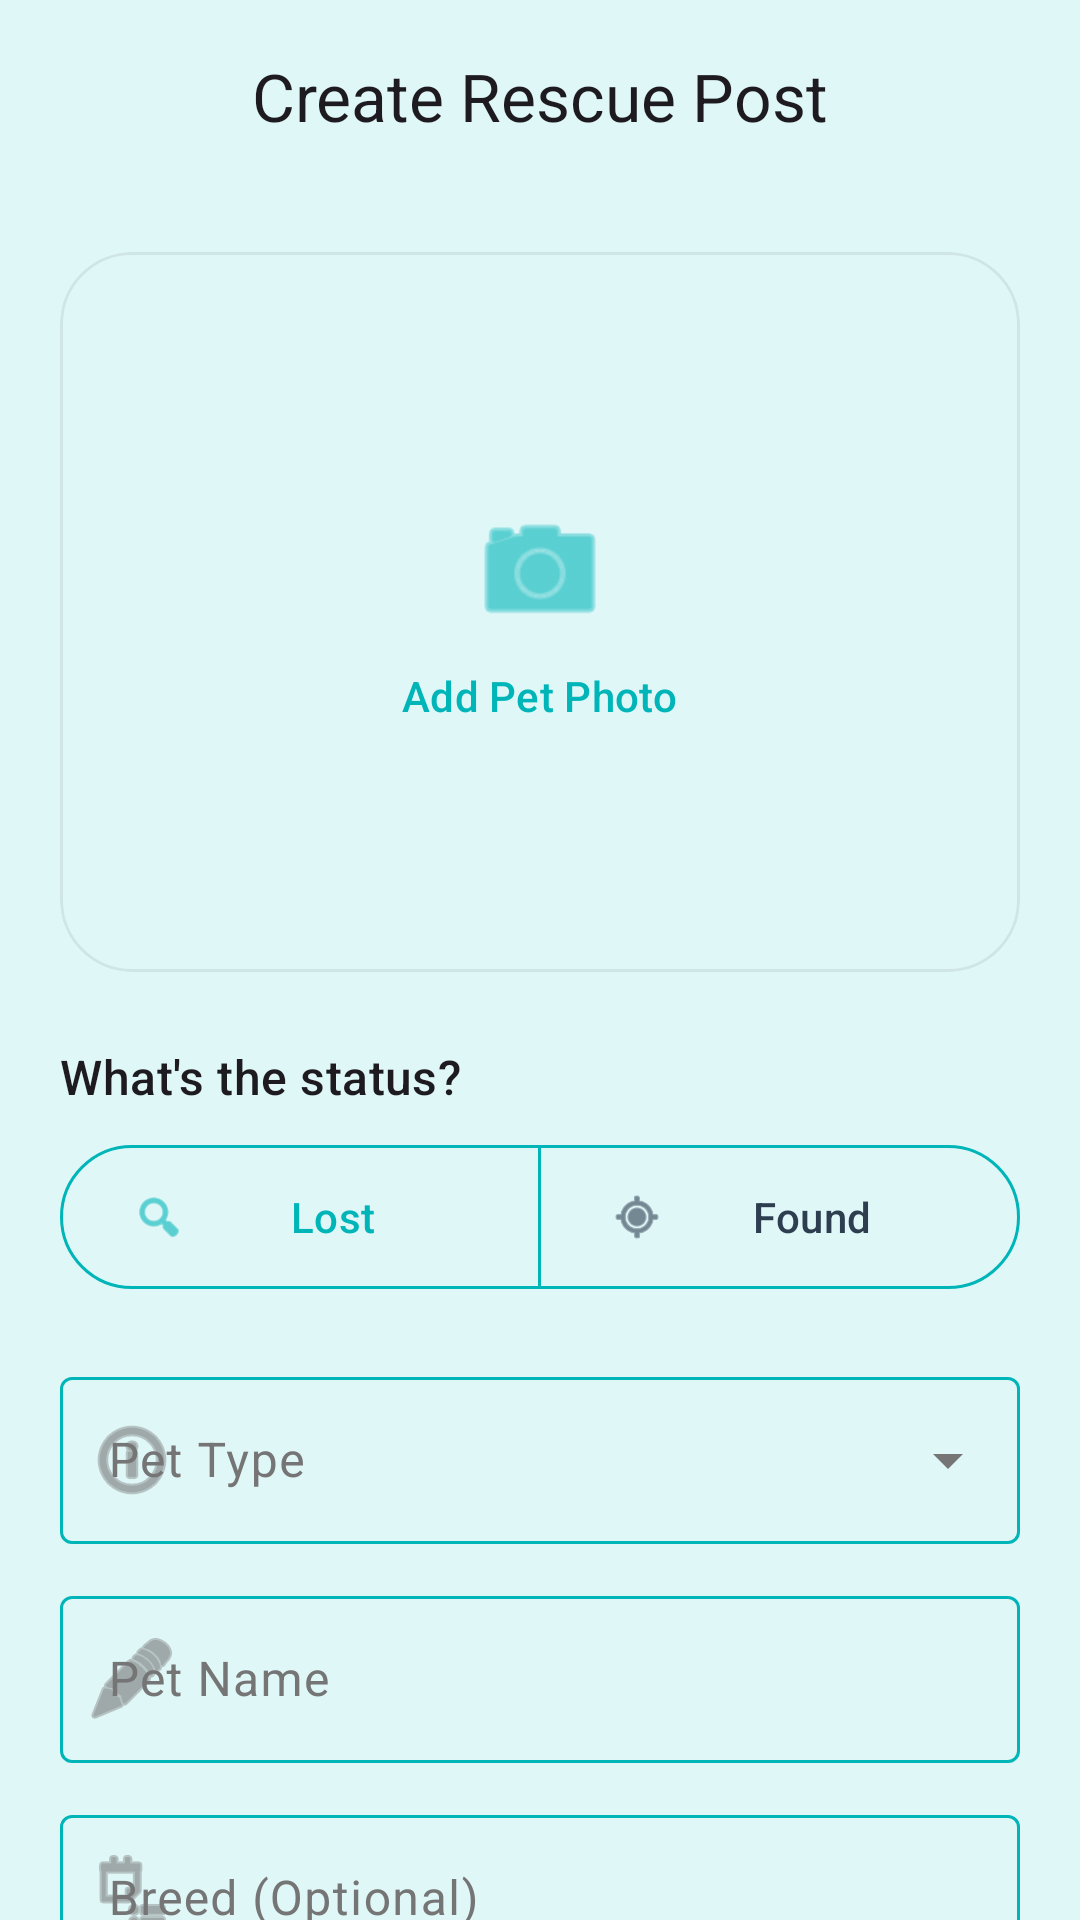

Named icons in this screenshot (1080w x 1920h) and their bounding boxes, bbox=[x1, y1, x2, y2]:
camera: bbox=[484, 524, 596, 613]
